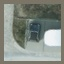car: (25, 22, 42, 43)
